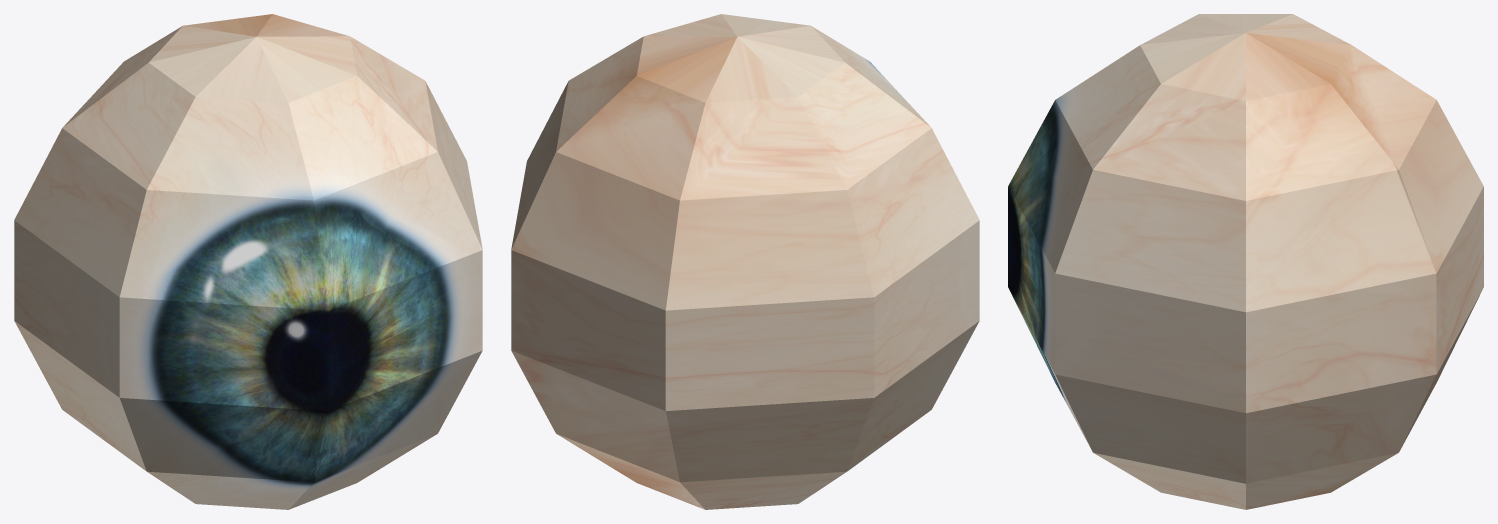
Rendered from eye.fbx.
3 renders of one model, left to right at view 1: azimuth 30°, elevation 25°; view 2: azimuth 150°, elevation 25°; view 3: azimuth 270°, elevation 25°, orthographic.
Visible parts, largest first — view 1: pSphere1; view 2: pSphere1; view 3: pSphere1.
Boxes of the visible parts, <box> form: pSphere1: <box>14,14,482,509</box>; pSphere1: <box>511,14,979,509</box>; pSphere1: <box>1008,14,1483,509</box>.
Size of the model in its own units: 1.85 by 2 by 1.9.
1 material, 1 textured.
